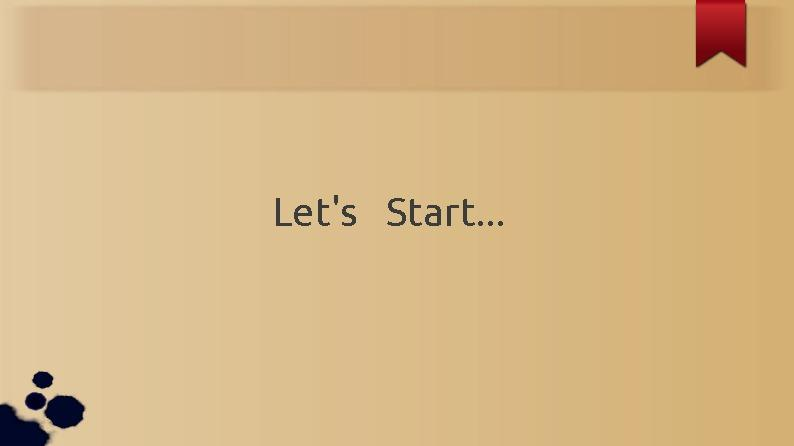title: (263, 169, 526, 256)
